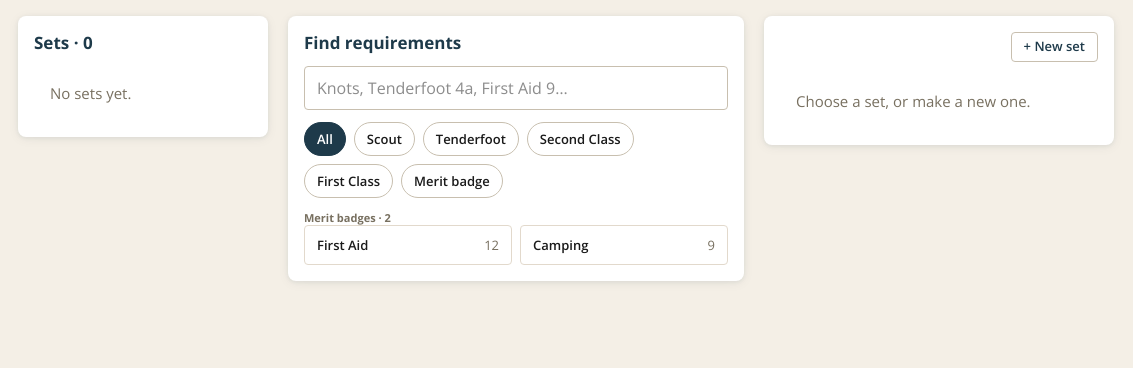
Test: Find requirements pills › PickingABadge_AddsARemovablePill
The image size is (1133, 368).
Step 1. Click the button "Merit badge" → (452, 181), box [401, 164, 503, 198]
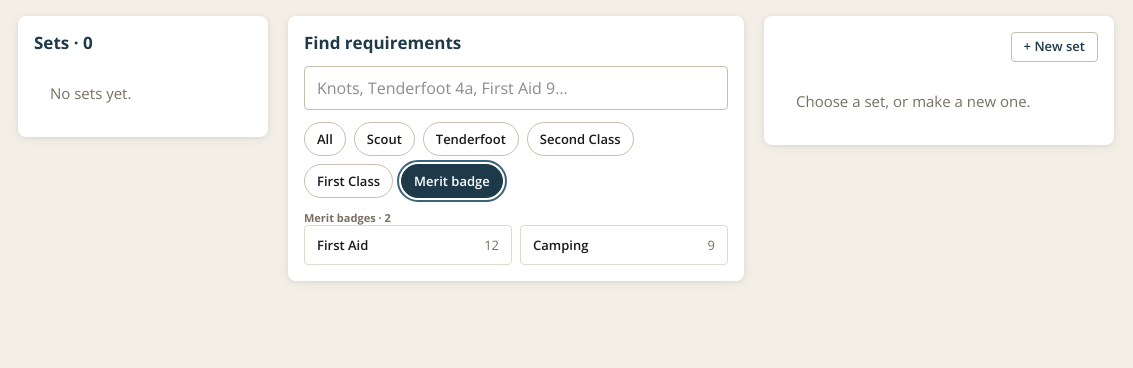
Step 2. Click the button "First Aid 12" → (408, 246), box [304, 226, 512, 266]
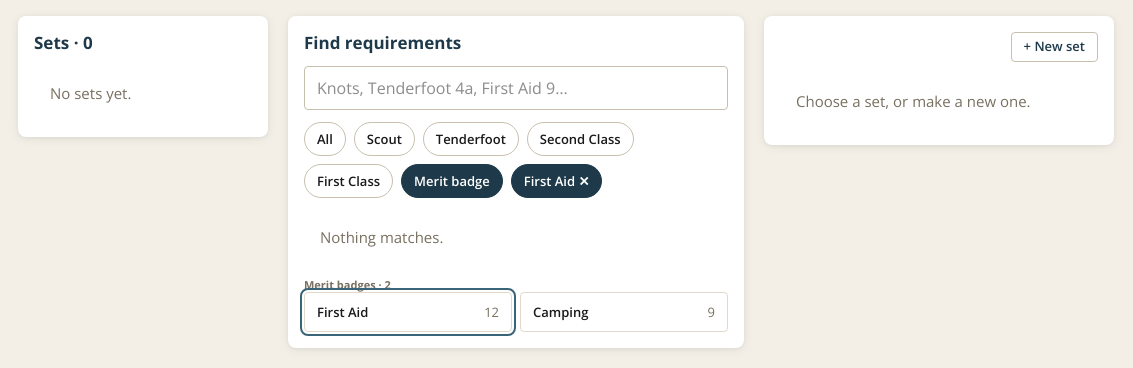
expect the button with aria-label "not just First Aid" reads "First Aid ✕": met, box [511, 164, 602, 198]
